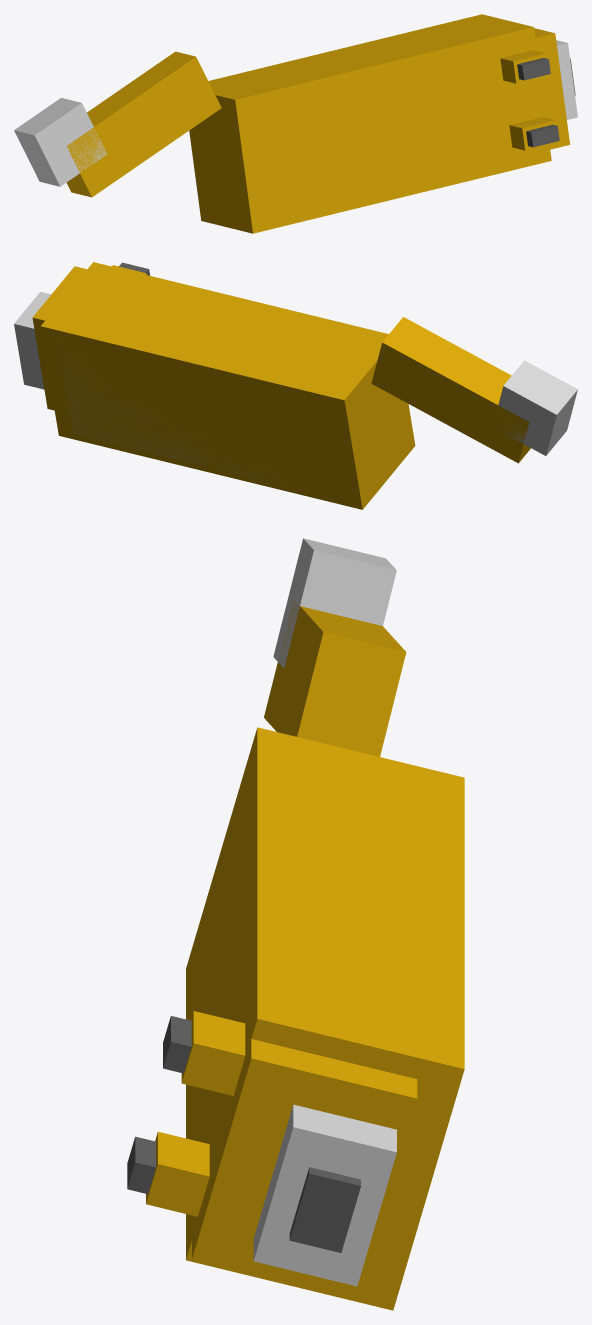
Rendered from fox_sleep.glb.
The picture shows the model from 3 angles, top to bottom: view 1: azimuth 30°, elevation 25°; view 2: azimuth 150°, elevation 25°; view 3: azimuth 270°, elevation 25°; orthographic projection. The views are drawn at different scales.
Parts seen in each view (by area): view 1: world; view 2: world; view 3: world.
Part boxes in pixels (x1,y1,x2,y2): world: [14, 14, 577, 233]; world: [14, 262, 577, 509]; world: [127, 538, 464, 1310].
Size of the model in its own units: 0.8098 by 0.2629 by 0.2201.
